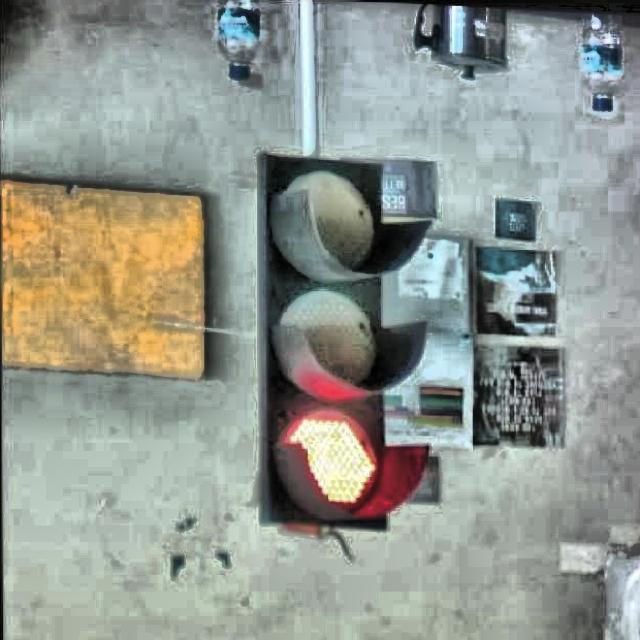red: (262, 150, 426, 537)
